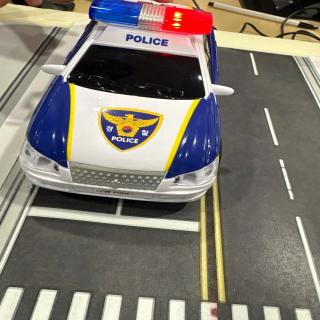Police_car: (20, 0, 233, 201)
